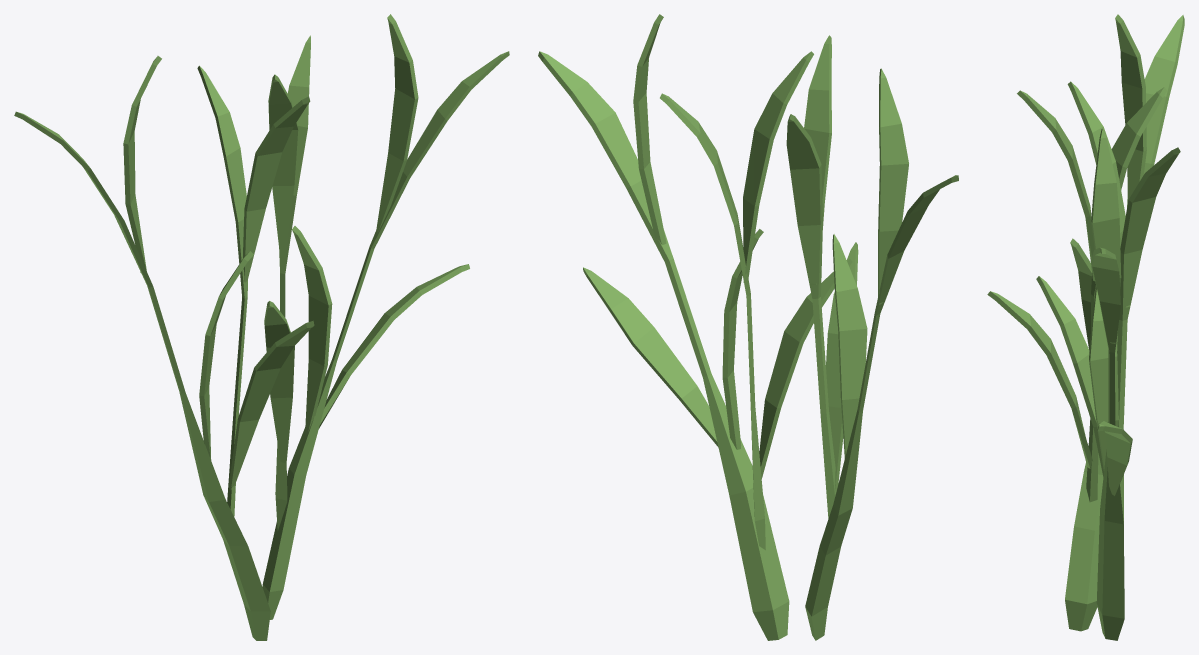
File: Rice_3.glb
3 views of the same model, side by side, from view 1: azimuth 30°, elevation 25°; view 2: azimuth 150°, elevation 25°; view 3: azimuth 270°, elevation 25° (orthographic). The views are drawn at different scales.
Parts seen in each view (by area): view 1: Rice_3; view 2: Rice_3; view 3: Rice_3.
Part boxes in pixels (bbox=[...]): Rice_3: bbox=[14, 14, 509, 640]; Rice_3: bbox=[538, 14, 958, 640]; Rice_3: bbox=[987, 14, 1184, 640].
Bounding box in the file's own units: 0.6186 × 0.7691 × 0.2384.
